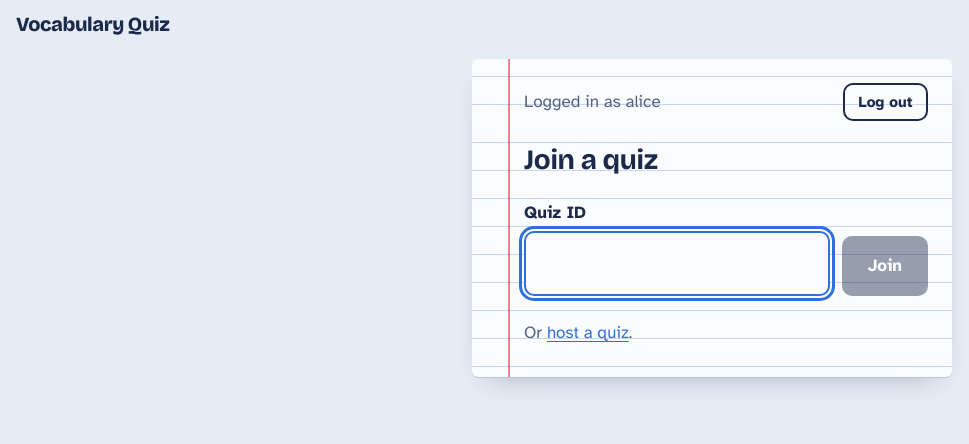
Test case: Home › logs out and returns to the login form
Step 1. Click the button "Log out" → (885, 102), box [843, 83, 928, 121]
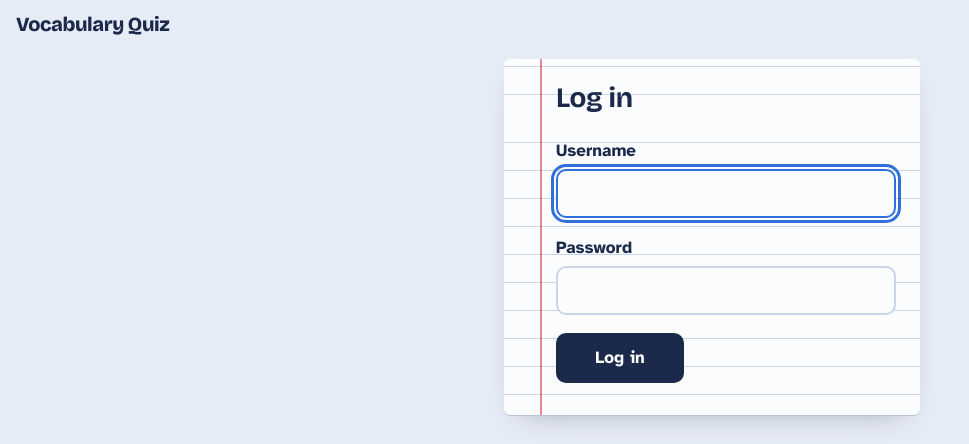
Result: the heading "Log in" is shown at [556, 81, 633, 115]
